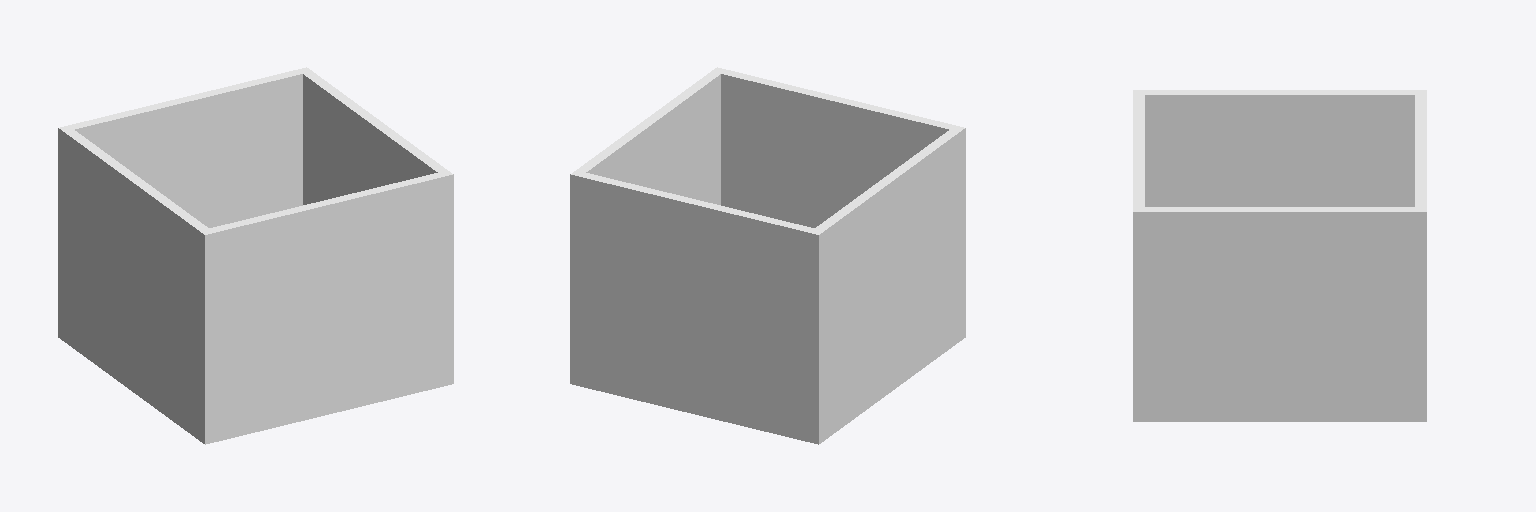
The model's file is tile.obj.
3 renders of one model, left to right at view 1: azimuth 30°, elevation 25°; view 2: azimuth 150°, elevation 25°; view 3: azimuth 270°, elevation 25°, orthographic.
Parts seen in each view (by area): view 1: wall_3_11, wall_2_5, wall_5_22, wall_4_16, wall_4_19, wall_2_7, wall_5_25, wall_3_13, wall_2_6, wall_4_18, wall_3_12, wall_5_24 (+1 smaller); view 2: wall_5_23, wall_2_5, wall_3_10, wall_4_16, wall_4_19, wall_5_25, wall_3_13, wall_2_7, wall_2_6, wall_4_18, wall_5_24, wall_3_12 (+1 smaller); view 3: wall_4_17, wall_2_4, wall_4_19, wall_2_7, wall_5_25, wall_3_13, wall_5_24, wall_3_12, wall_4_18, wall_2_6.
Part boxes in pixels (x1,y1,x2,y2): wall_3_11: (205, 174, 453, 444); wall_2_5: (64, 132, 204, 443); wall_5_22: (61, 74, 302, 340); wall_4_16: (303, 74, 437, 204); wall_4_19: (305, 68, 451, 173); wall_2_7: (62, 129, 206, 234); wall_5_25: (59, 67, 306, 129); wall_3_13: (205, 174, 452, 234); wall_2_6: (67, 128, 208, 230); wall_4_18: (303, 71, 445, 173); wall_3_12: (207, 173, 444, 231); wall_5_24: (67, 71, 303, 129); wall_5_23: (570, 174, 821, 444); wall_2_5: (825, 128, 965, 439); wall_3_10: (721, 74, 948, 227); wall_4_16: (586, 74, 720, 204); wall_4_19: (572, 68, 718, 173); wall_5_25: (571, 174, 820, 234); wall_3_13: (717, 67, 963, 128); wall_2_7: (819, 128, 964, 231); wall_2_6: (813, 129, 956, 230); wall_4_18: (578, 71, 720, 173); wall_5_24: (579, 173, 822, 232); wall_3_12: (720, 71, 956, 129); wall_4_17: (1133, 212, 1426, 421); wall_2_4: (1145, 95, 1414, 206); wall_4_19: (1134, 209, 1425, 211); wall_2_7: (1133, 90, 1420, 92); wall_5_25: (1421, 90, 1426, 211); wall_3_13: (1133, 91, 1138, 211); wall_5_24: (1415, 91, 1420, 208); wall_3_12: (1139, 93, 1144, 208); wall_4_18: (1141, 207, 1418, 208); wall_2_6: (1141, 93, 1416, 94).
Bounding box in the file's own units: 189 × 152 × 193.